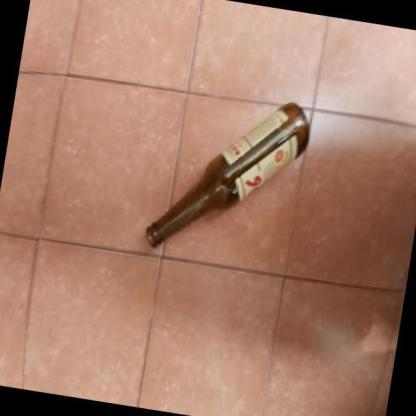Can: (146, 102, 310, 250)
